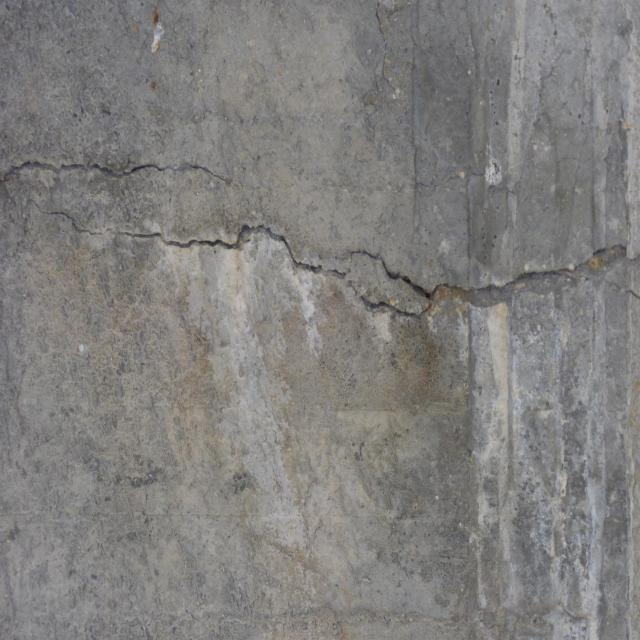horizontal crack: (0, 212, 640, 322), (0, 146, 265, 194)
vertical crack: (514, 2, 575, 144), (374, 0, 397, 91)
